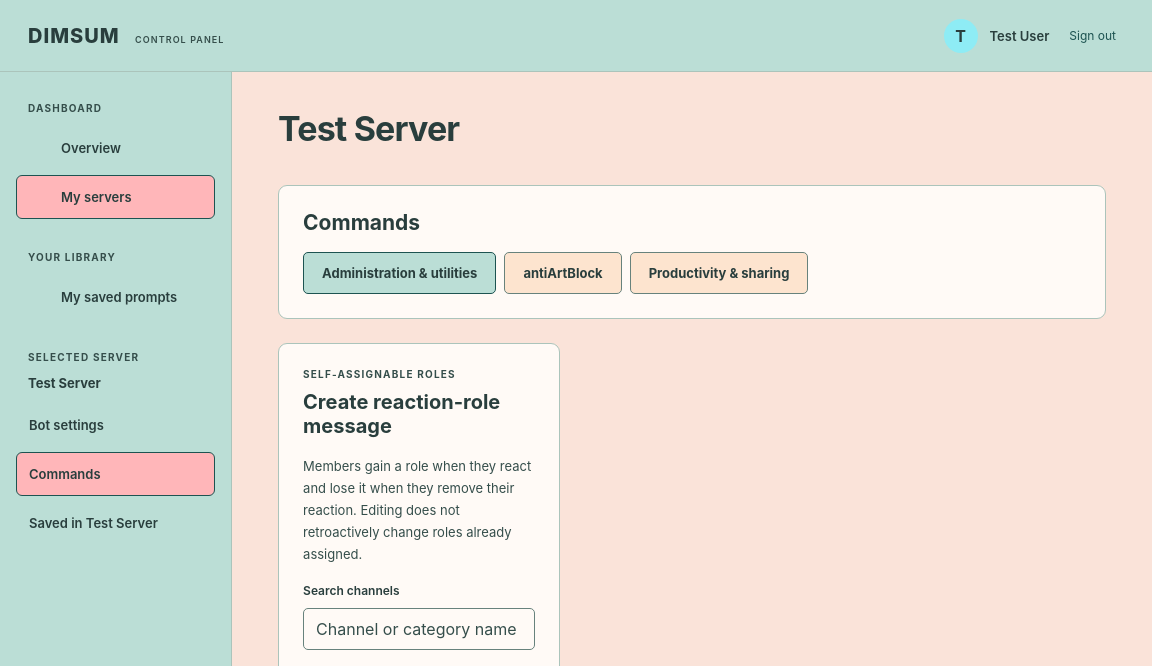
Scenario: command cards have vertical spacing below the theme tabs and catalog
Click the tab "Productivity & sharing": {"x": 719, "y": 273} [630,252,808,294]
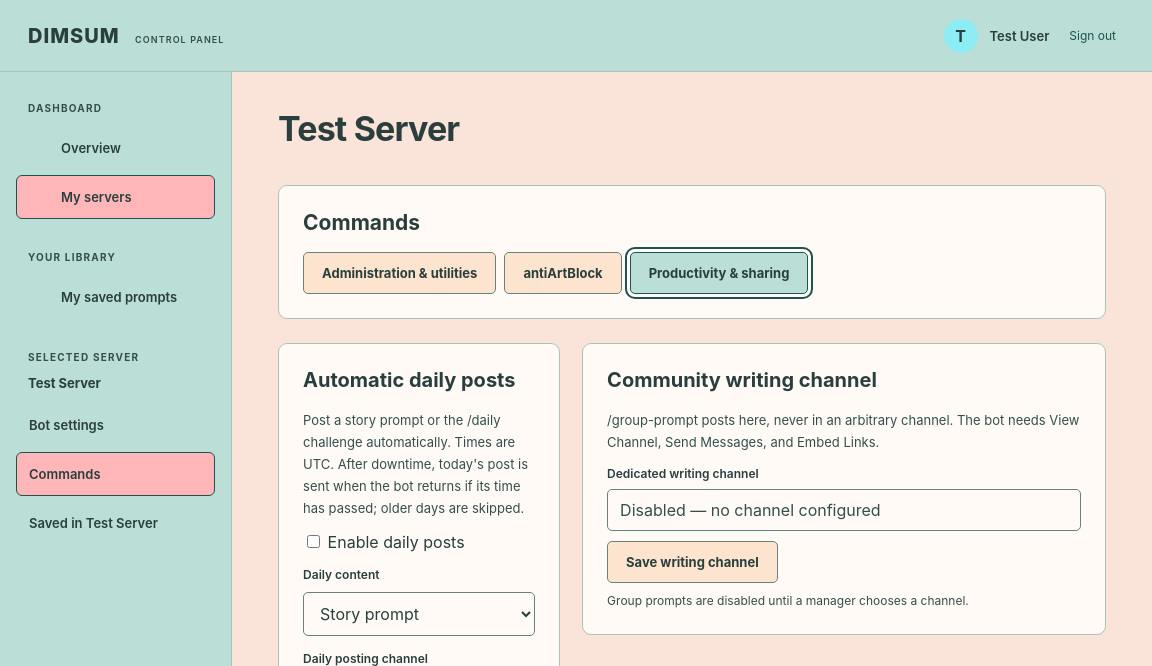
Expected: the heading "Automatic daily posts" is shown, [303,368,535,392]
Expected: the heading "Community writing channel" is shown, [607,368,877,392]
